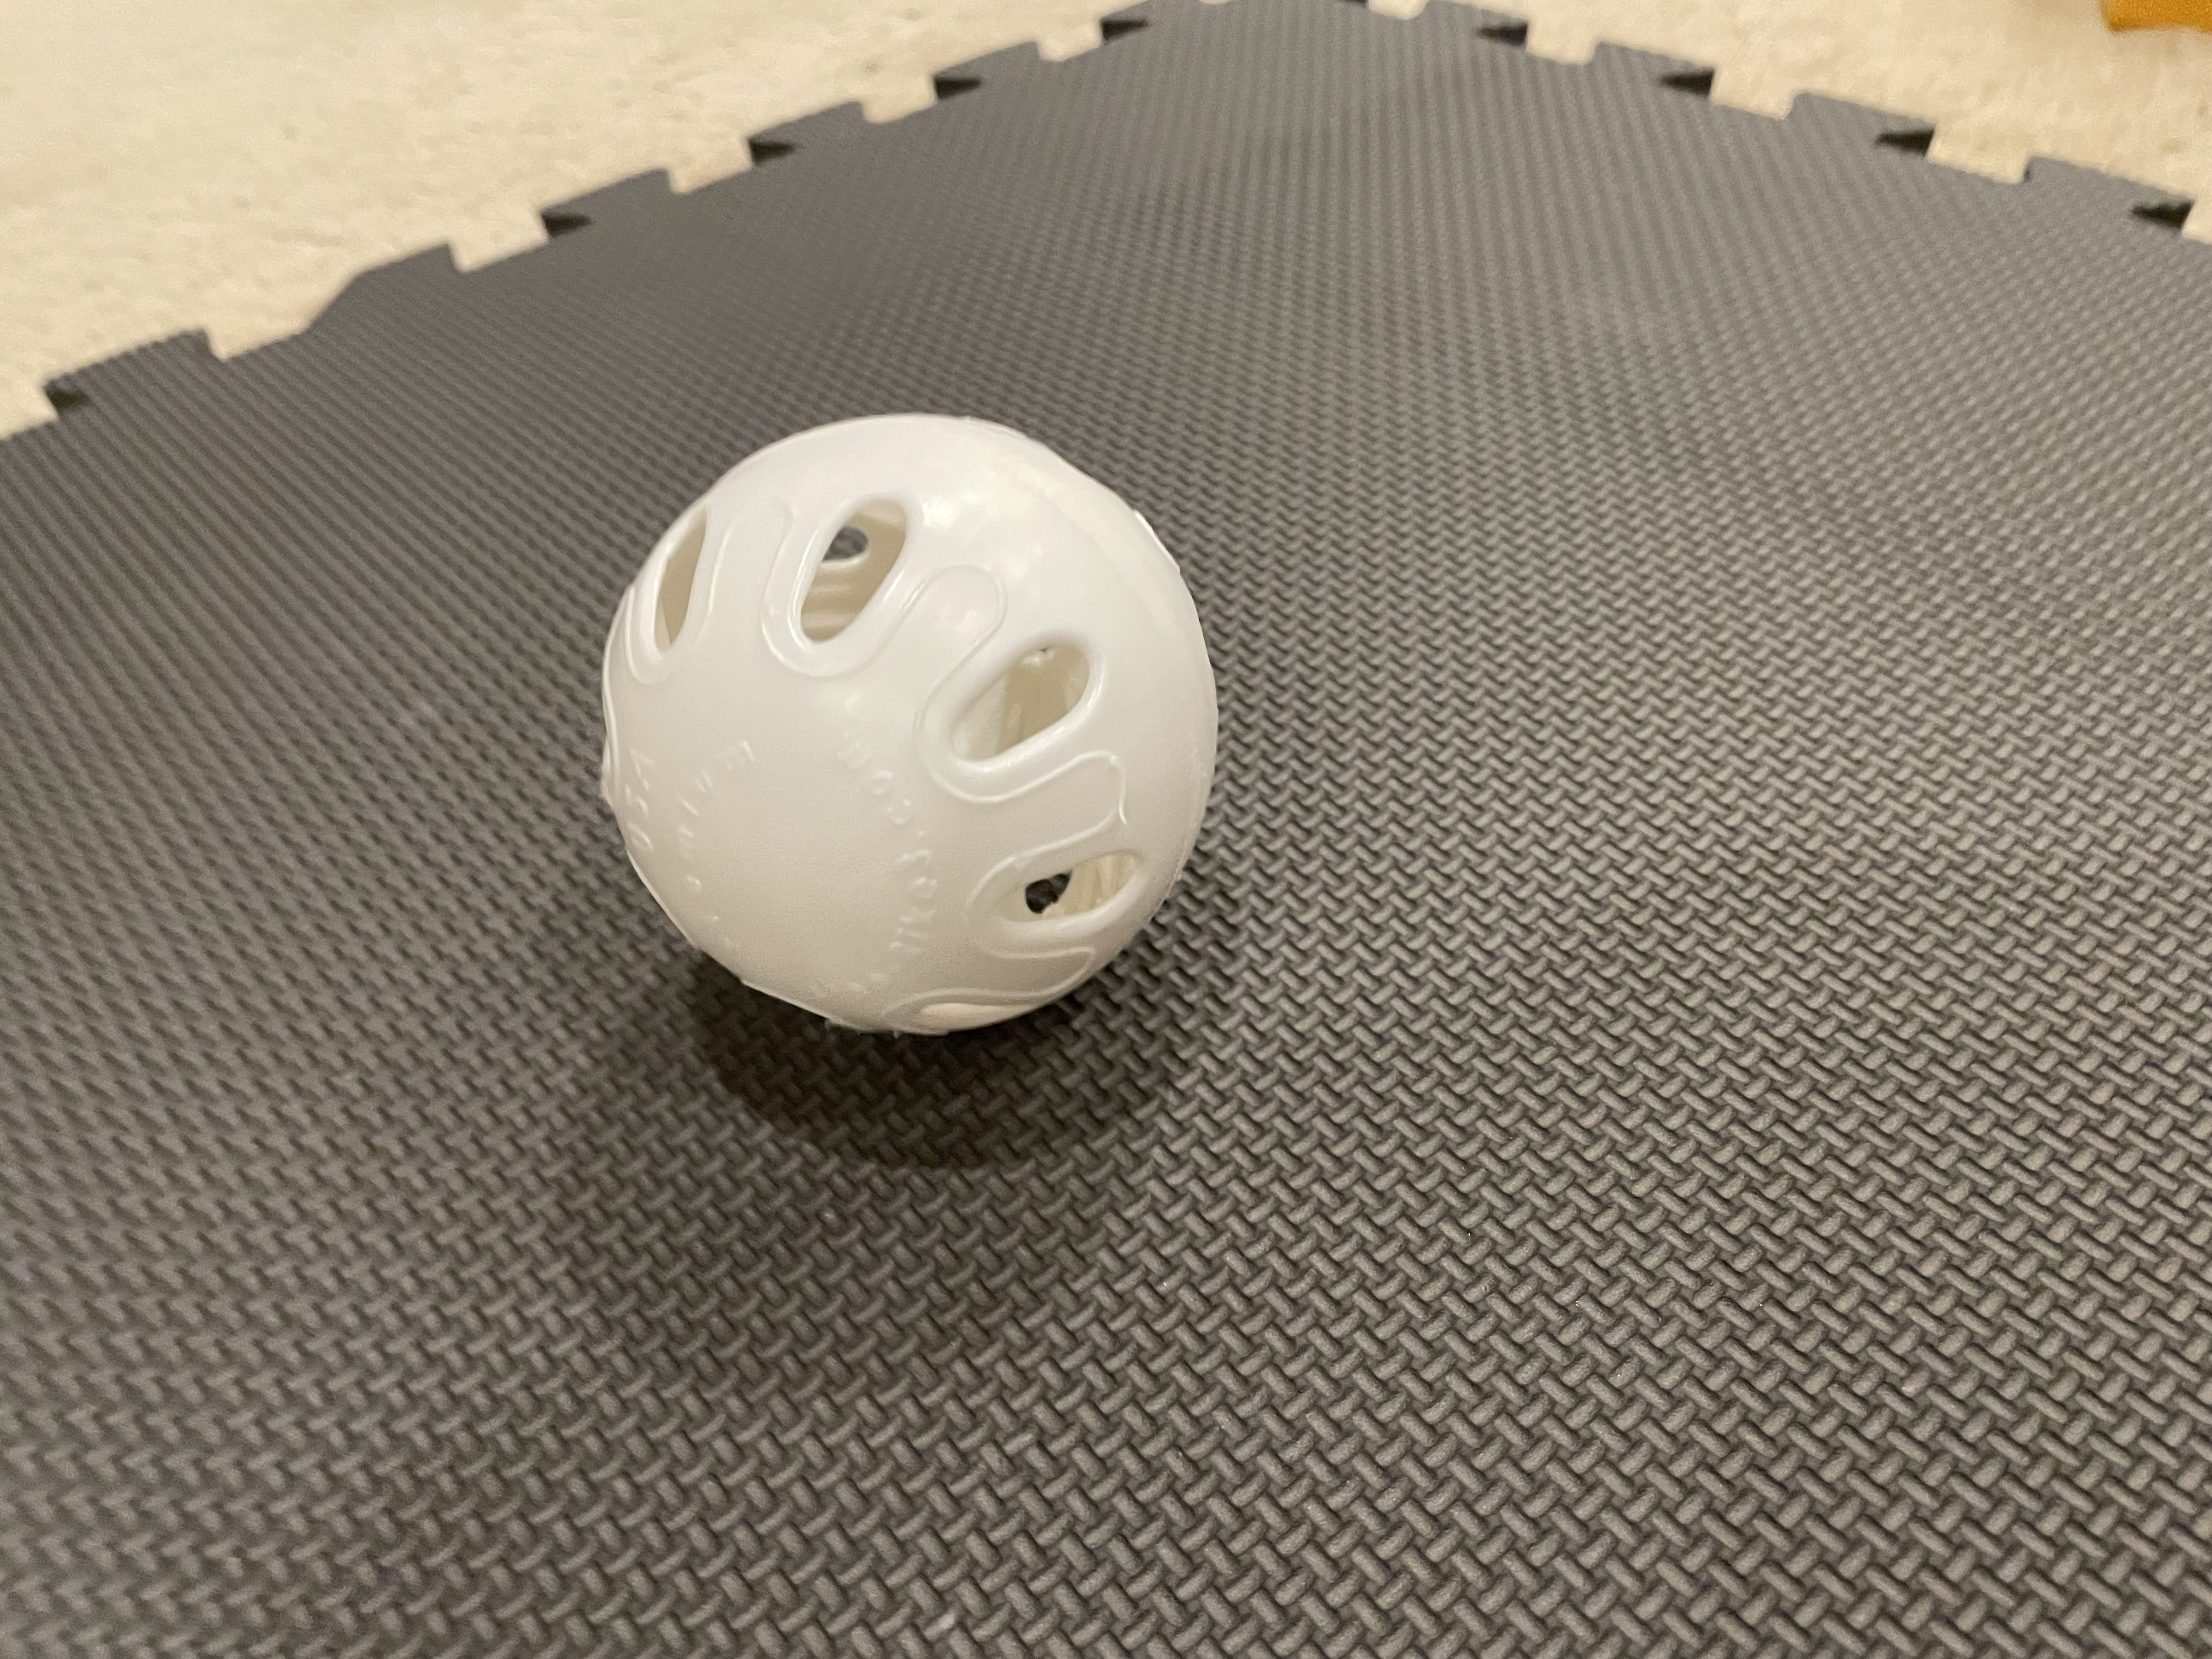ball: (502, 354, 1244, 1096)
